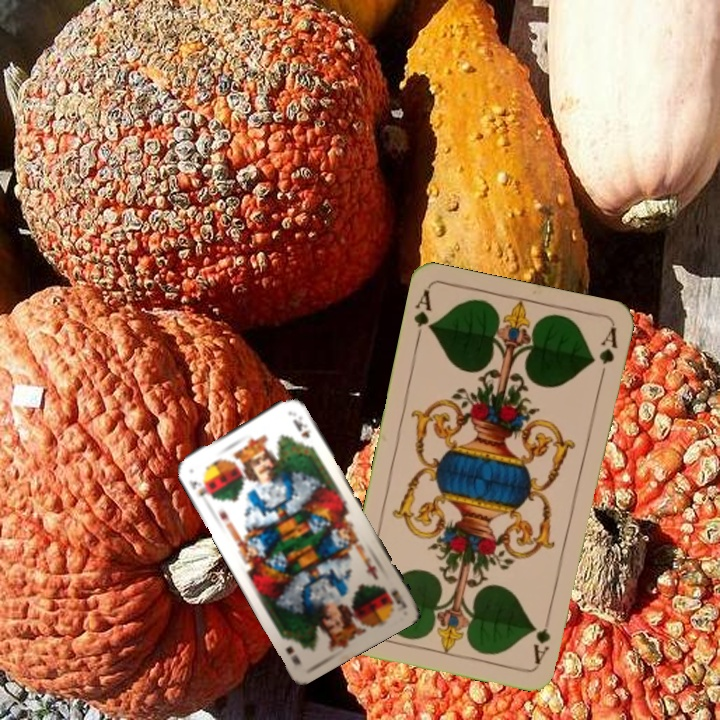GA: (409, 286, 436, 345), (530, 608, 553, 666)
SK: (185, 476, 215, 502), (387, 585, 409, 611)
